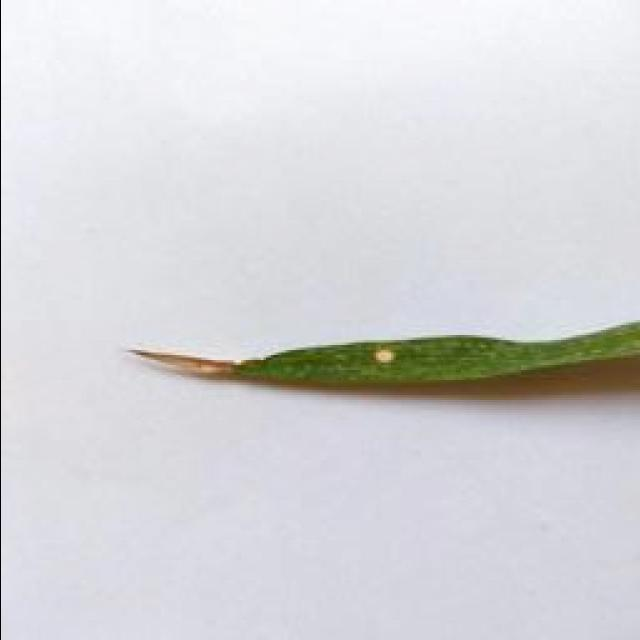Unhealthy: (128, 352, 245, 375), (372, 347, 396, 366)
